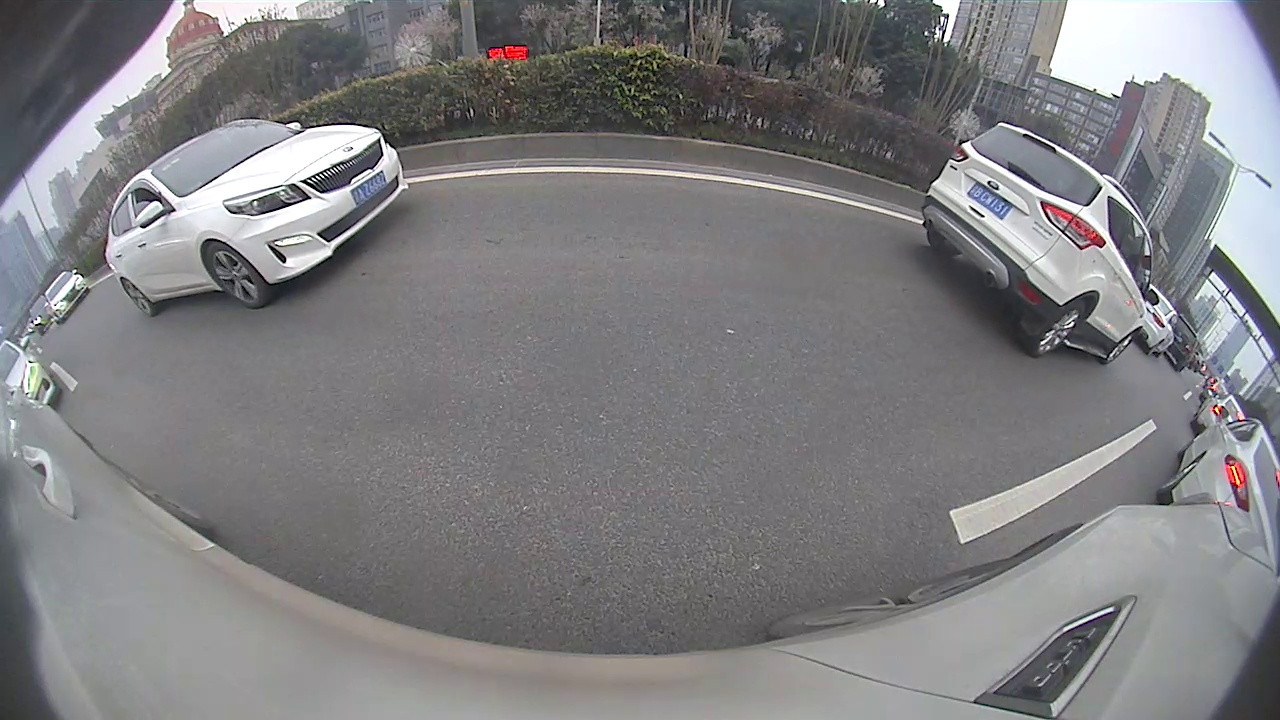car: (99, 119, 412, 318), (919, 120, 1162, 365), (1157, 406, 1278, 542)
front: (203, 242, 267, 310), (1104, 328, 1140, 365)
rear: (1029, 299, 1084, 358), (122, 276, 157, 317)
